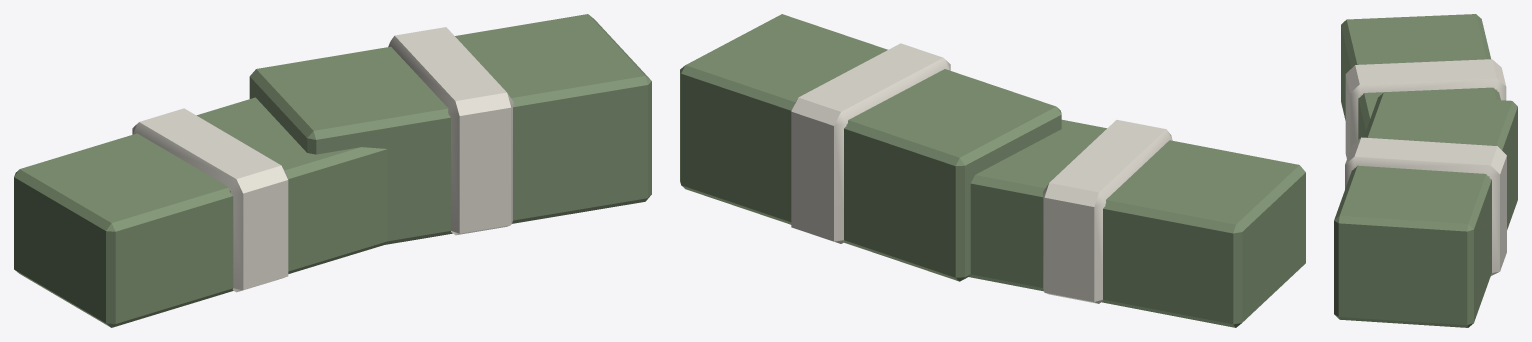
The model's file is prop_cash_stack.glb.
The picture shows the model from 3 angles, left to right: view 1: azimuth 30°, elevation 25°; view 2: azimuth 150°, elevation 25°; view 3: azimuth 270°, elevation 25°; orthographic projection. The views are drawn at different scales.
Visible parts, largest first — view 1: Cash; view 2: Cash; view 3: Cash.
Boxes of the visible parts, box(x1,y1,x2,y2) form: Cash: box(14, 14, 651, 327); Cash: box(680, 14, 1305, 327); Cash: box(1334, 14, 1517, 327).
Bounding box in the file's own units: 0.2872 × 0.064 × 0.0962.
